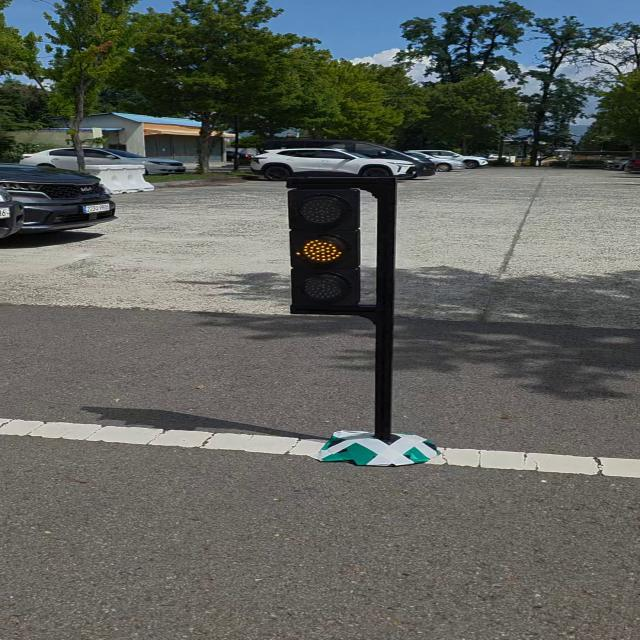yellow: (284, 178, 368, 318)
